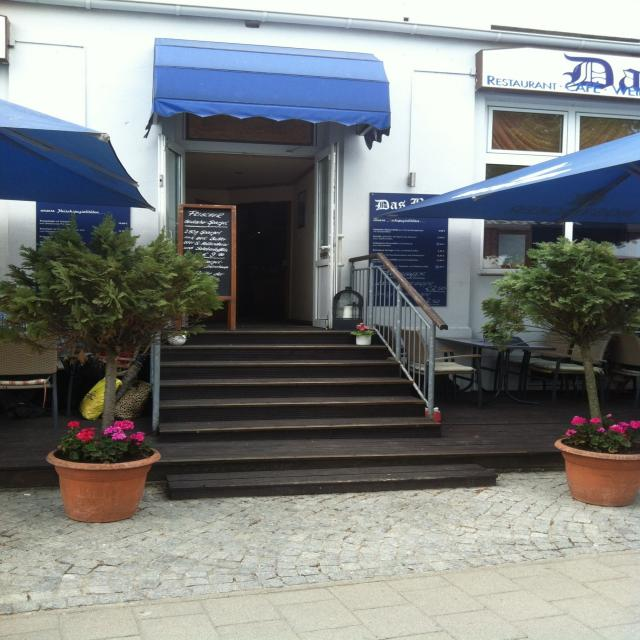AVOID: (157, 332, 446, 438)
